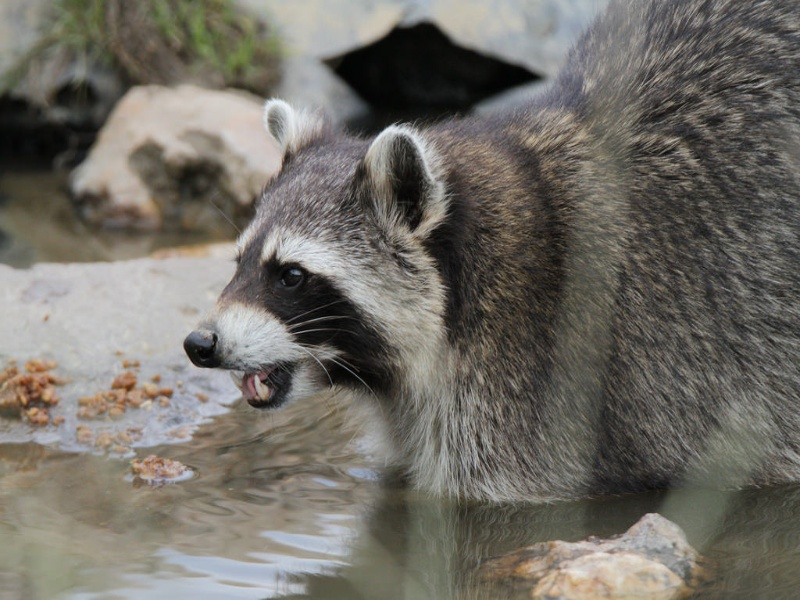raccoon: (175, 1, 792, 512)
